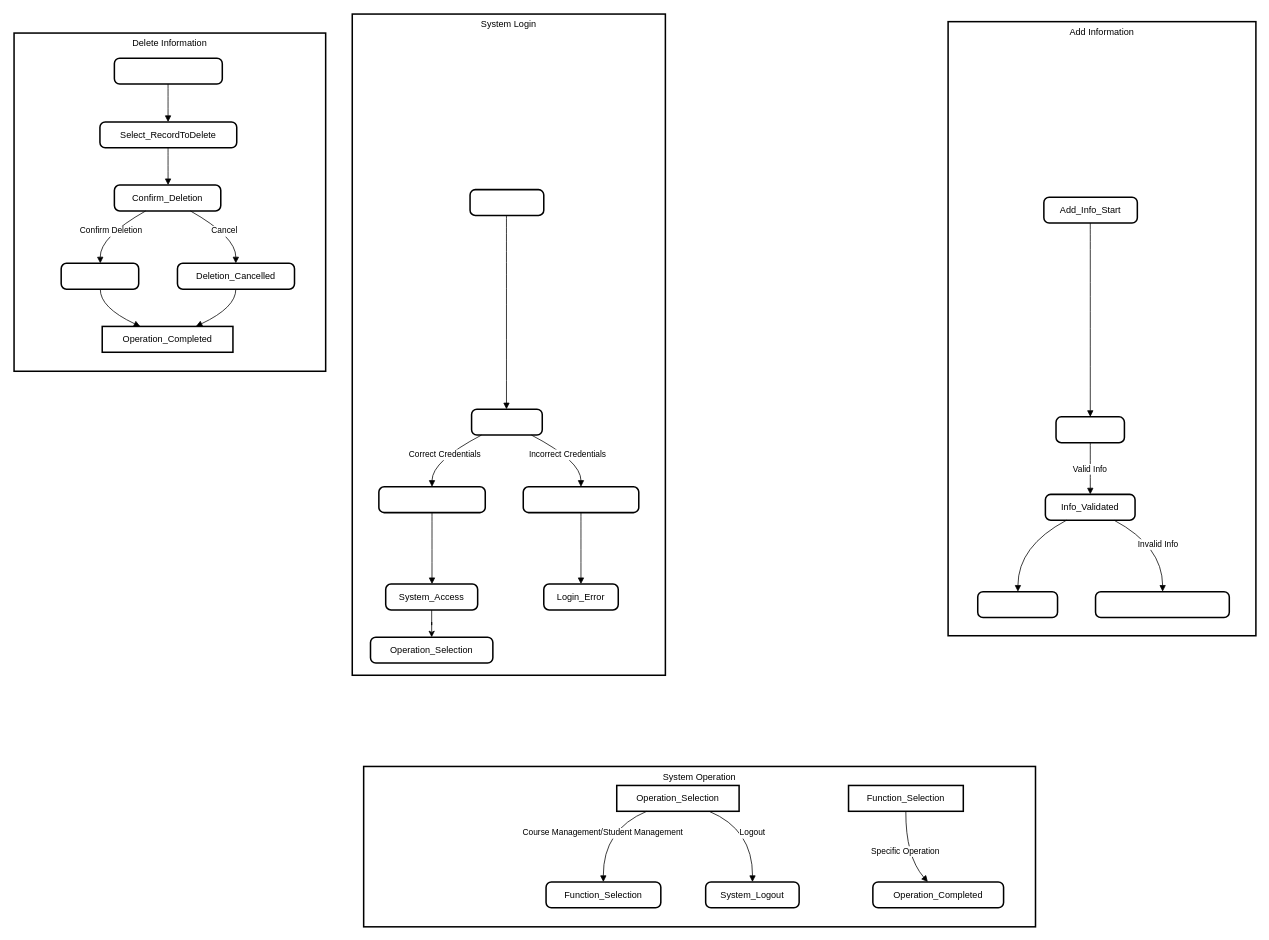
This 1269x940 diagram has some shape labels left out. The centre of each missing label's shape, as x and y in pixels:
Credentials_Invalid: point (580, 499)
Credentials_Valid: point (432, 499)
DB_Deletion: point (99, 276)
DB_Insertion: point (1017, 604)
Delete_Info_Start: point (168, 70)
Enter_Info: point (1090, 429)
Info_Invalid_Feedback: point (1162, 604)
Login_Start: point (506, 202)
User_Input: point (506, 421)
